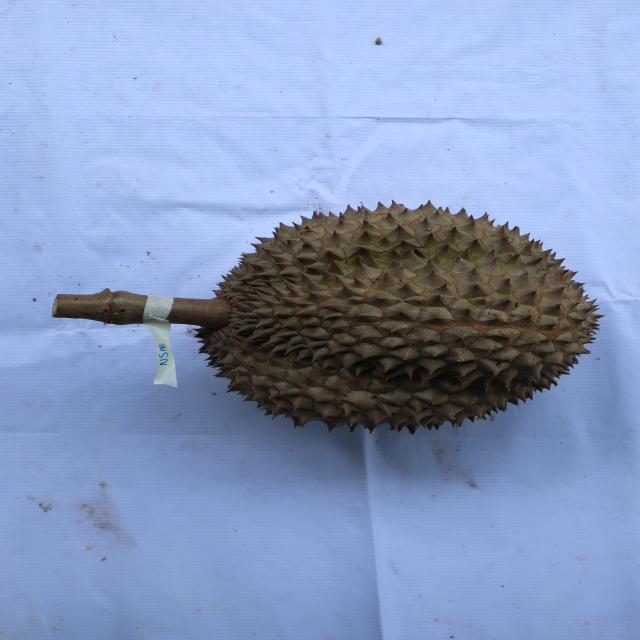mature: (189, 196, 610, 435)
